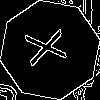X: (25, 25, 76, 67)
